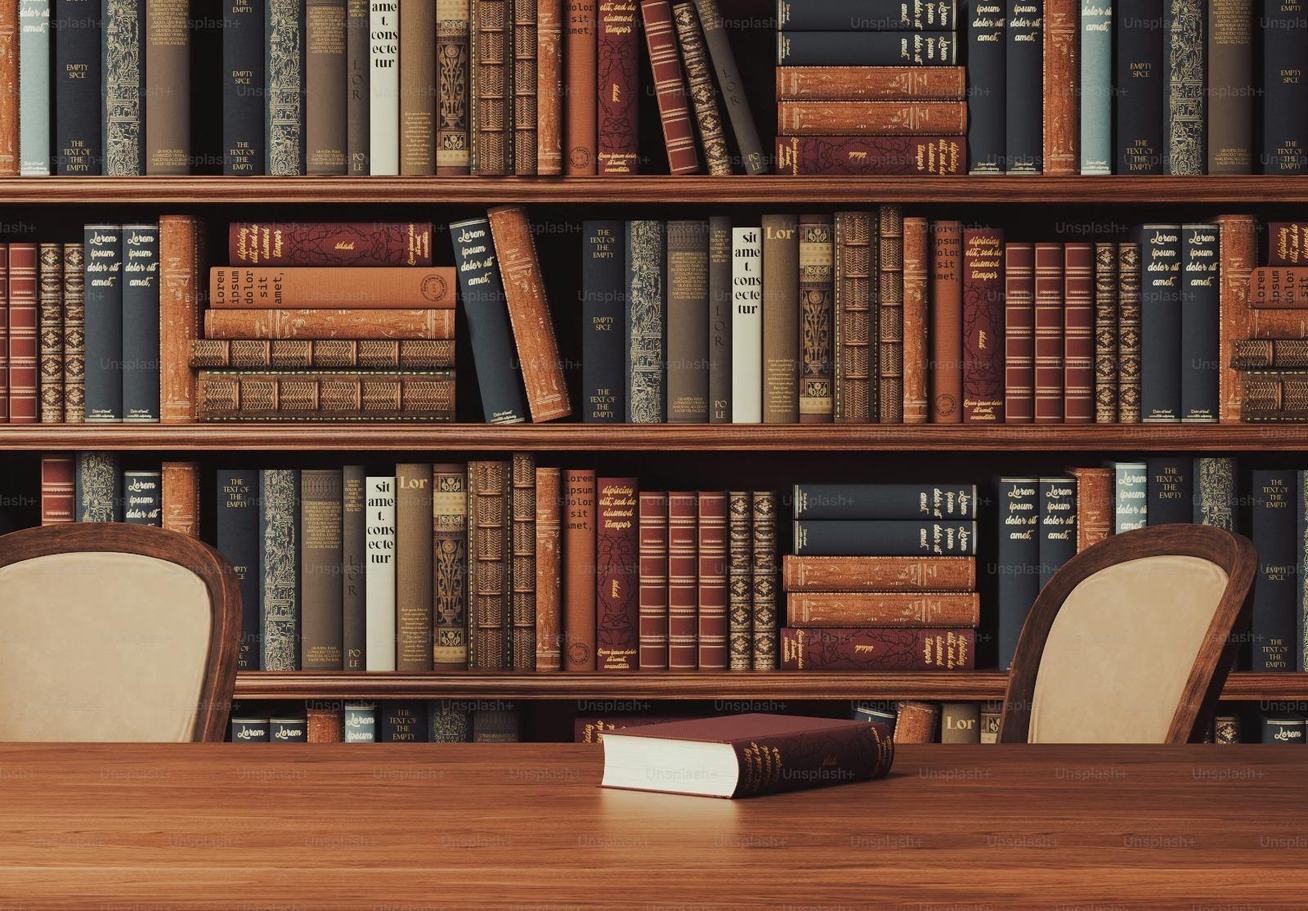book: (485, 206, 573, 423), (449, 217, 529, 423), (194, 370, 454, 422), (638, 0, 699, 177), (159, 216, 207, 424), (231, 220, 434, 268), (1212, 215, 1258, 416), (209, 269, 458, 306), (995, 476, 1040, 673), (216, 470, 260, 668), (196, 335, 452, 369), (205, 307, 451, 342), (581, 220, 623, 423), (300, 470, 342, 671), (1139, 226, 1182, 421), (1207, 3, 1255, 176), (667, 218, 708, 419), (144, 3, 191, 175), (596, 478, 637, 674), (55, 2, 101, 176), (963, 224, 1003, 423), (1115, 2, 1161, 175), (83, 226, 123, 422), (304, 2, 348, 177), (1179, 224, 1218, 421), (260, 469, 298, 671), (838, 210, 874, 423), (395, 464, 432, 671), (122, 225, 161, 421), (596, 1, 639, 177), (1038, 474, 1078, 663), (432, 464, 468, 672), (791, 627, 949, 673), (222, 2, 264, 174), (763, 216, 798, 420), (966, 2, 1006, 178), (1166, 2, 1206, 176), (104, 1, 144, 175), (931, 219, 965, 422), (399, 2, 438, 177), (788, 134, 942, 178), (799, 213, 831, 423), (1006, 2, 1044, 177), (562, 471, 595, 671), (793, 555, 965, 593), (1043, 1, 1080, 177), (804, 482, 964, 522), (792, 590, 960, 628), (731, 223, 763, 421), (364, 472, 396, 669), (799, 519, 964, 557), (785, 65, 952, 102), (435, 3, 470, 176), (1080, 2, 1115, 175), (563, 1, 597, 177), (474, 1, 508, 177), (18, 0, 52, 174), (902, 212, 930, 422), (785, 100, 948, 136), (878, 207, 905, 422), (787, 31, 943, 68), (535, 468, 563, 673), (511, 459, 537, 670), (369, 1, 401, 171), (698, 487, 727, 674), (1034, 242, 1064, 422), (668, 488, 697, 673), (341, 467, 367, 669), (1065, 242, 1094, 422), (1004, 243, 1033, 423), (9, 240, 38, 420), (639, 487, 667, 673), (709, 218, 734, 421), (536, 2, 564, 177), (788, 0, 936, 33), (727, 487, 752, 671), (513, 2, 539, 178), (345, 2, 371, 174), (39, 243, 64, 421), (1118, 244, 1142, 421), (1094, 243, 1117, 421), (501, 455, 517, 665)
